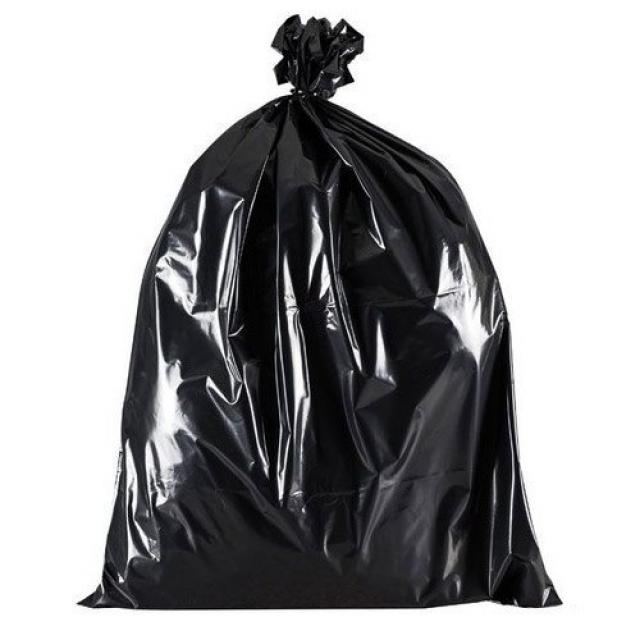plastic_bag: (93, 34, 526, 618)
